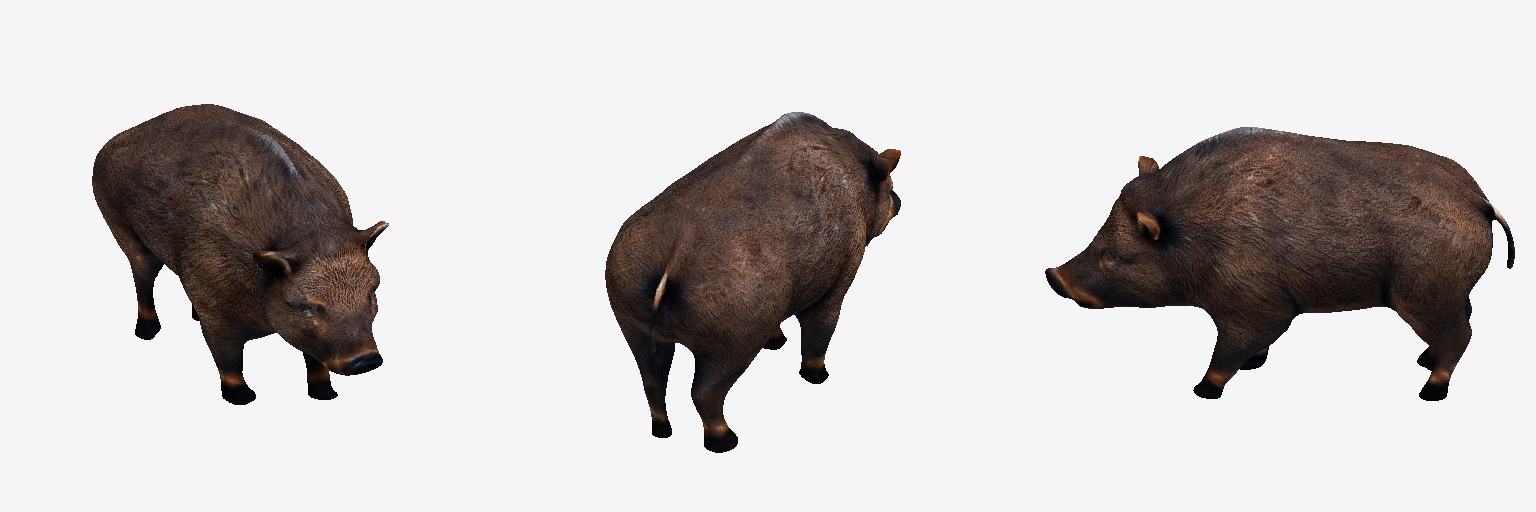
The picture shows the model from 3 angles: view 1: azimuth 30°, elevation 25°; view 2: azimuth 150°, elevation 25°; view 3: azimuth 270°, elevation 25°; orthographic projection.
Parts seen in each view (by area): view 1: Boar_Quad; view 2: Boar_Quad; view 3: Boar_Quad.
Part boxes in pixels (x1,y1,x2,y2): Boar_Quad: (92, 104, 388, 404); Boar_Quad: (605, 112, 900, 452); Boar_Quad: (1045, 127, 1514, 400).
Size of the model in its own units: 0.6534 by 0.9563 by 1.58.
Materials: 1 (1 with a texture image).